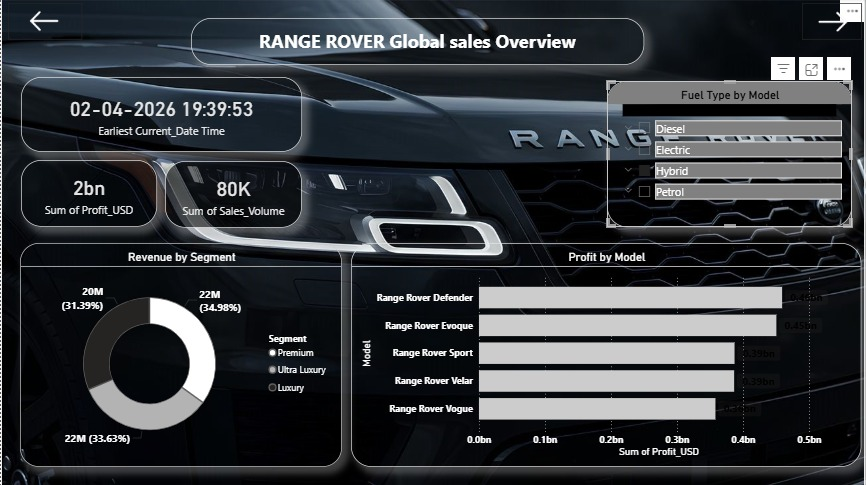

Layout of this report page (visuals, bound fields, positions):
{"tool":"powerbi","page":{"name":"Page 2","canvas":[1280,720],"ordinal":1},"visuals":[{"type":"image","box":[0,0,1269.6,720],"z":0},{"type":"card","fields":{"Values":["Sum(Range_Rover_3000_Dataset_With_Transmission_Fuel.Profit_USD)"]},"box":[29.4,238,199.8,98.4],"z":1000},{"type":"barChart","title":"Profit by Model","fields":{"Category":["Range_Rover_3000_Dataset_With_Transmission_Fuel.Model"],"Y":["Sum(Range_Rover_3000_Dataset_With_Transmission_Fuel.Profit_USD)"]},"box":[514.8,360.6,750.1,328.9],"z":2000},{"type":"donutChart","title":"Revenue by Segment","fields":{"Category":["Range_Rover_3000_Dataset_With_Transmission_Fuel.Segment"],"Y":["Sum(Range_Rover_3000_Dataset_With_Transmission_Fuel.Price_USD)"]},"box":[27.5,360.6,473.5,328.9],"z":3000},{"type":"image","box":[1176.8,6.9,88.1,53.7],"z":4000},{"type":"image","box":[9.6,6.9,108.7,53.7],"z":5000},{"type":"card","fields":{"Values":["Sum(Range_Rover_3000_Dataset_With_Transmission_Fuel.Sales_Volume)"]},"box":[241,239.5,201.3,98.4],"z":6000},{"type":"slicer","title":"Fuel Type by Model","fields":{"Values":["Range_Rover_3000_Dataset_With_Transmission_Fuel.Fuel_Type","Range_Rover_3000_Dataset_With_Transmission_Fuel.Model"]},"box":[890.4,122,360,214.5],"z":7000},{"type":"textbox","box":[279.2,29.4,665.6,69.1],"z":8000},{"type":"card","fields":{"Values":["Min(Range_Rover_3000_Dataset_With_Transmission_Fuel.Current_Date)"]},"box":[29.4,116.1,412.9,110.2],"z":9000}]}

Visuals, with their boxes in screenshot pixels (x1, y1, x2, y2), scaled from the page's 1280x720 canvas onto the 866x485 screenshot:
image: 0 0 859 484
card - Sum(Range_Rover_3000_Dataset_With_Transmission_Fuel.Profit_USD): 20 160 155 227
"Profit by Model" barChart: 348 243 856 464
"Revenue by Segment" donutChart: 19 243 339 464
image: 796 5 856 41
image: 6 5 80 41
card - Sum(Range_Rover_3000_Dataset_With_Transmission_Fuel.Sales_Volume): 163 161 299 228
"Fuel Type by Model" slicer: 602 82 846 227
textbox: 189 20 639 66
card - Min(Range_Rover_3000_Dataset_With_Transmission_Fuel.Current_Date): 20 78 299 152
